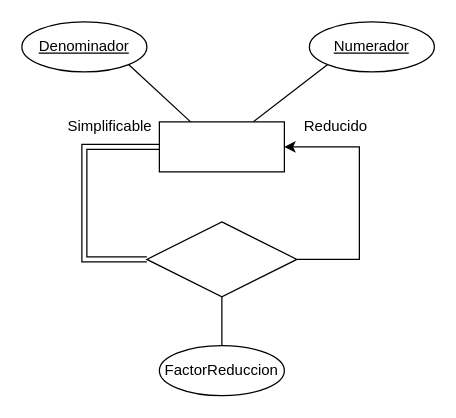
Image size: 456x418. Some labels were removed from this diagram. Here are the shapes that lost their labels. From the top down, the centre of each, then its label:
At (221,146): "Racional".
At (221,259): "Reducir".
